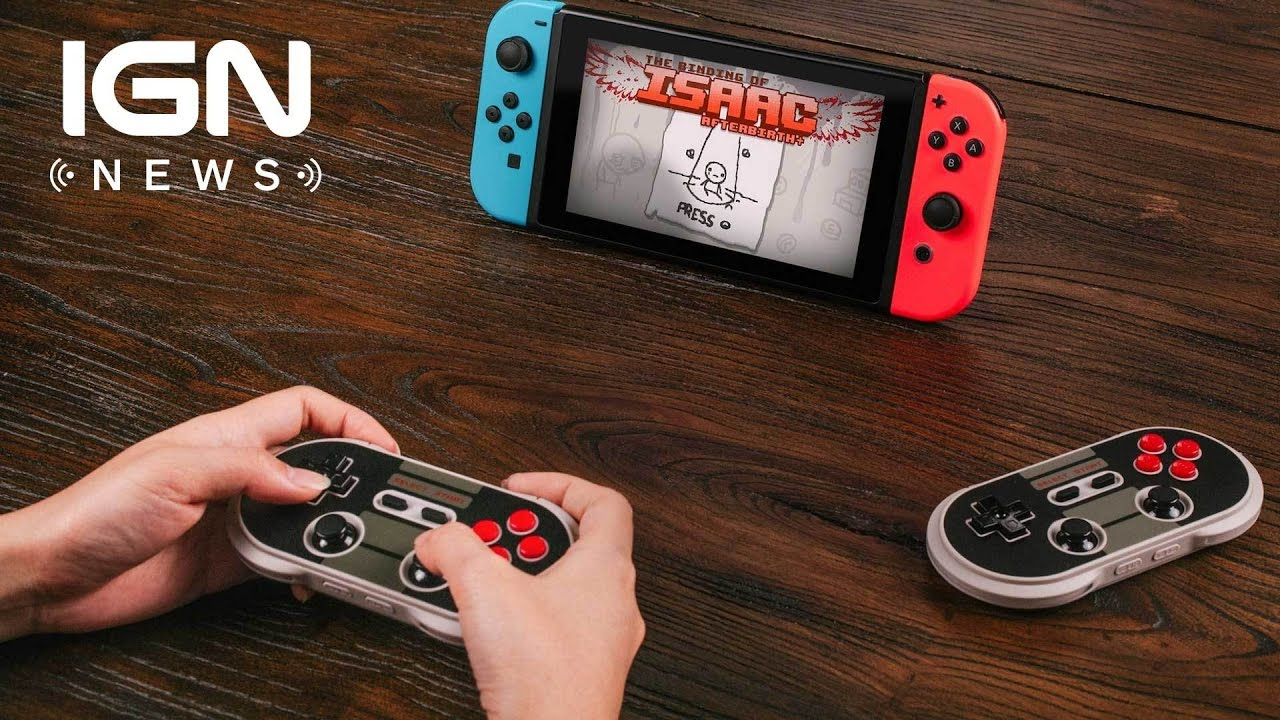NintendoSwitch: (463, 3, 1009, 332)
